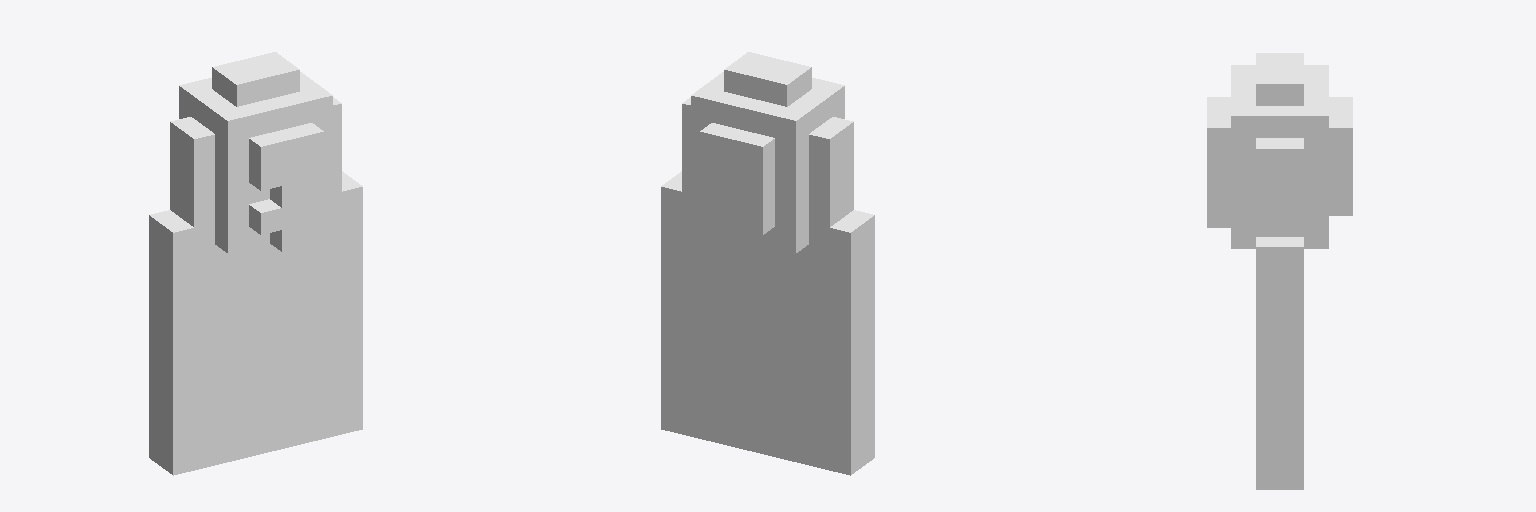
The model's file is Torse.obj.
3 views of the same model, side by side, from view 1: azimuth 30°, elevation 25°; view 2: azimuth 150°, elevation 25°; view 3: azimuth 270°, elevation 25° (orthographic).
Parts seen in each view (by area): view 1: object 1; view 2: object 1; view 3: object 1.
Boxes of the visible parts, box(x1,y1,x2,y2) form: object 1: box(149, 52, 362, 475); object 1: box(661, 52, 874, 475); object 1: box(1207, 53, 1352, 489).
Size of the model in its own units: 0.9 by 1.7 by 0.6.